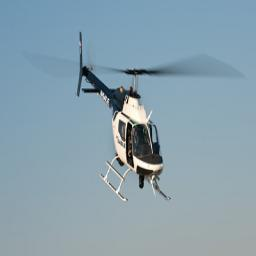helicopter: (77, 32, 205, 204)
